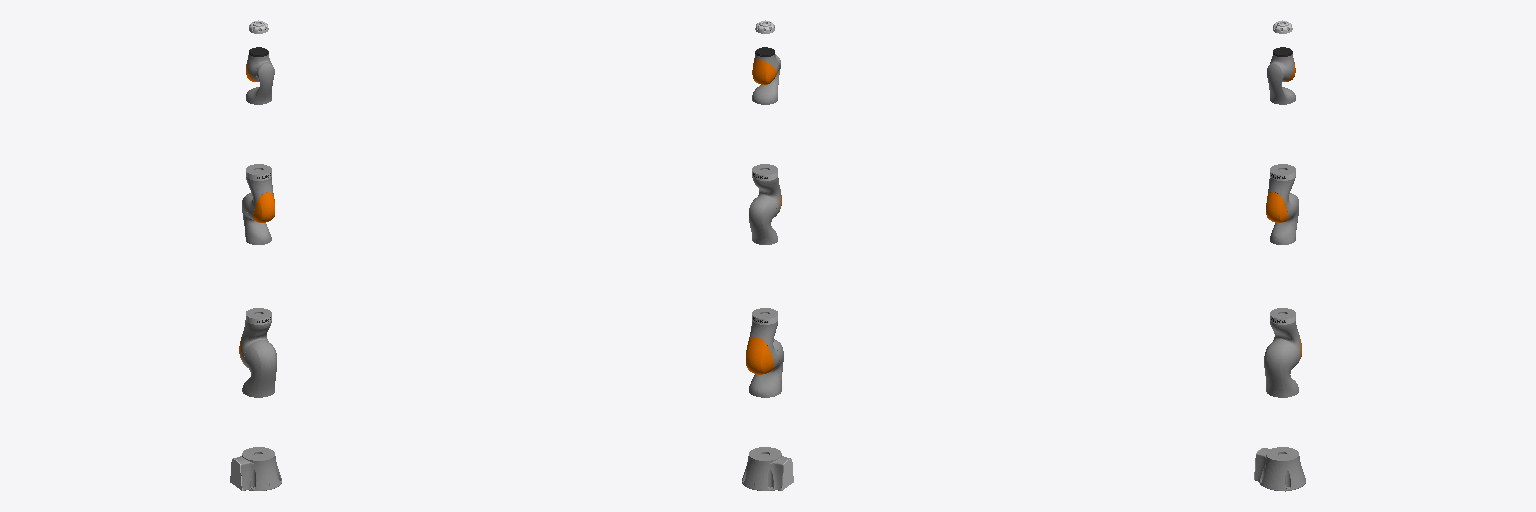
robot.urdf — kuka-iiwa-14:
<?xml version="1.0"?>

<robot name="kuka-iiwa-14">

    <link name="base_link">
        <visual>
            <origin rpy="0.0 0.0 0.0" xyz="0.0 0.0 0.0"/>
            <geometry>
                <mesh filename="package://kuka-iiwa-14_description/meshes/link_0.dae" scale="1.0 1.0 1.0"/>
            </geometry>
        </visual>
    </link>
    
    <joint name="base_to_link1" type="revolute">
        <origin xyz="0.0 0.0 0.36" rpy="0.0 0.0 0.0"/>
        <parent link="base_link"/>
        <child link="link_1"/>
        <limit lower="-2.967" upper="2.967" effort="10.0" velocity="1.48"/>
    </joint>

    <link name="link_1">
        <visual>
            <origin rpy="0.0 0.0 0.0" xyz="0.0 0.0 0.0"/>
            <geometry>
                <mesh filename="package://kuka-iiwa-14_description/meshes/link_1.dae" scale="1.0 1.0 1.0"/>
           </geometry>
        </visual>
    </link>
    
    <joint name="link1_to_link2" type="revolute">
        <origin xyz="0.0 0.0 0.0" rpy="0.0 0.0 0.0"/>
        <parent link="link_1"/>
        <child link="link_2"/>
        <axis xyz="1.0 0.0 0.0"/>
        <limit lower="-2.094" upper="2.094" effort="10.0" velocity="1.48"/>
    </joint>

    <link name="link_2">
        <visual>
            <origin rpy="0.0 0.0 0.0" xyz="0.0 0.0 0.0"/>
            <geometry>
                <mesh filename="package://kuka-iiwa-14_description/meshes/link_2.dae" scale="1.0 1.0 1.0"/>
            </geometry>
        </visual>
    </link>
    
    <joint name="link2_to_link3" type="revolute">
        <origin xyz="0.0 0.0 0.42" rpy="0.0 0.0 0.0"/>
        <parent link="link_2"/>
        <child link="link_3"/>
        <axis xyz="0.0 0.0 1.0"/>
        <limit lower="-2.967" upper="2.967" effort="10.0" velocity="1.745"/>
    </joint>

    <link name="link_3">
        <visual>
            <origin rpy="0.0 0.0 0.0" xyz="0.0 0.0 0.0"/>
            <geometry>
                <mesh filename="package://kuka-iiwa-14_description/meshes/link_3.dae" scale="1.0 1.0 1.0"/>
            </geometry>
        </visual>
    </link>
    
    <joint name="link3_to_link4" type="revolute">
        <origin xyz="0.0 0.0 0.0" rpy="0.0 0.0 0.0"/>
        <parent link="link_3"/>
        <child link="link_4"/>
        <axis xyz="1.0 0.0 0.0"/>
        <limit lower="-2.094" upper="2.094" effort="10.0" velocity="1.31"/>
    </joint>

    <link name="link_4">
        <visual>
            <origin rpy="0.0 0.0 0.0" xyz="0.0 0.0 0.0"/>
            <geometry>
                <mesh filename="package://kuka-iiwa-14_description/meshes/link_4.dae" scale="1.0 1.0 1.0"/>
            </geometry>
        </visual>
    </link>
    
    <joint name="link4_to_link5" type="revolute">
        <origin xyz="0.0 0.0 0.4" rpy="0.0 0.0 0.0"/>
        <parent link="link_4"/>
        <child link="link_5"/>
        <axis xyz="0.0 0.0 1.0"/>
        <limit lower="-2.967" upper="2.967" effort="10.0" velocity="2.27"/>
    </joint>

    <link name="link_5">
        <visual>
            <origin rpy="0.0 0.0 0.0" xyz="0.0 0.0 0.0"/>
            <geometry>
                <mesh filename="package://kuka-iiwa-14_description/meshes/link_5.dae" scale="1.0 1.0 1.0"/>
            </geometry>
        </visual>
    </link>
    
    <joint name="link5_to_link6" type="revolute">
        <origin xyz="0.0 0.0 0.0" rpy="0.0 0.0 0.0"/>
        <parent link="link_5"/>
        <child link="link_6"/>
        <axis xyz="1.0 0.0 0.0"/>
        <limit lower="-2.094" upper="2.094" effort="10.0" velocity="2.356"/>
    </joint>

    <link name="link_6">
        <visual>
            <origin rpy="0.0 0.0 0.0" xyz="0.0 0.0 0.0"/>
            <geometry>
                <mesh filename="package://kuka-iiwa-14_description/meshes/link_6.dae" scale="1.0 1.0 1.0"/>
            </geometry>
        </visual>
    </link>
    
    <joint name="link6_to_link7" type="revolute">
        <origin xyz="0.0 0.0 0.126" rpy="0.0 0.0 0.0"/>
        <parent link="link_6"/>
        <child link="link_7"/>
        <axis xyz="0.0 0.0 1.0"/>
        <limit lower="-3.054" upper="3.054" effort="10.0" velocity="2.356"/>
    </joint>

    <link name="link_7">
        <visual>
            <origin rpy="0.0 0.0 0.0" xyz="0.0 0.0 0.0"/>
            <geometry>
                <mesh filename="package://kuka-iiwa-14_description/meshes/link_7.dae" scale="1.0 1.0 1.0"/>
           </geometry>
        </visual>
    </link>
    
</robot>

--- What the picture shows (computed from the rendered views, not written in the file) ---
The picture shows the robot from 3 angles, left to right: view 1: azimuth 30°, elevation 25°; view 2: azimuth 150°, elevation 25°; view 3: azimuth 330°, elevation 25°; orthographic projection.
Robot: kuka-iiwa-14 — 8 links, 7 joints (7 revolute); root link base_link; default pose: every joint at zero.
Visible links, largest first — view 1: base_link, link_1, link_4, link_2, link_5, link_3; view 2: base_link, link_2, link_3, link_1, link_4, link_6, link_5; view 3: base_link, link_1, link_4, link_2, link_5, link_3.
Link boxes in pixels (x1,y1,x2,y2): base_link: (230,447,281,490); link_1: (242,340,276,397); link_4: (246,164,274,222); link_2: (239,308,271,367); link_5: (246,62,274,104); link_3: (242,193,271,244); base_link: (742,447,793,490); link_2: (746,308,779,374); link_3: (749,195,777,244); link_1: (749,339,783,397); link_4: (752,164,781,216); link_6: (752,47,779,84); link_5: (752,54,780,104); base_link: (1254,447,1305,491); link_1: (1264,340,1298,397); link_4: (1266,164,1295,222); link_2: (1270,308,1301,365); link_5: (1267,62,1295,104); link_3: (1270,193,1298,244).
Bounding box of the posed robot: 0.2575 × 0.2536 × 2.61 m (x, y, z).
Meshes: 8 distinct files referenced, 8 mesh visuals loaded (8 Collada DAE).
